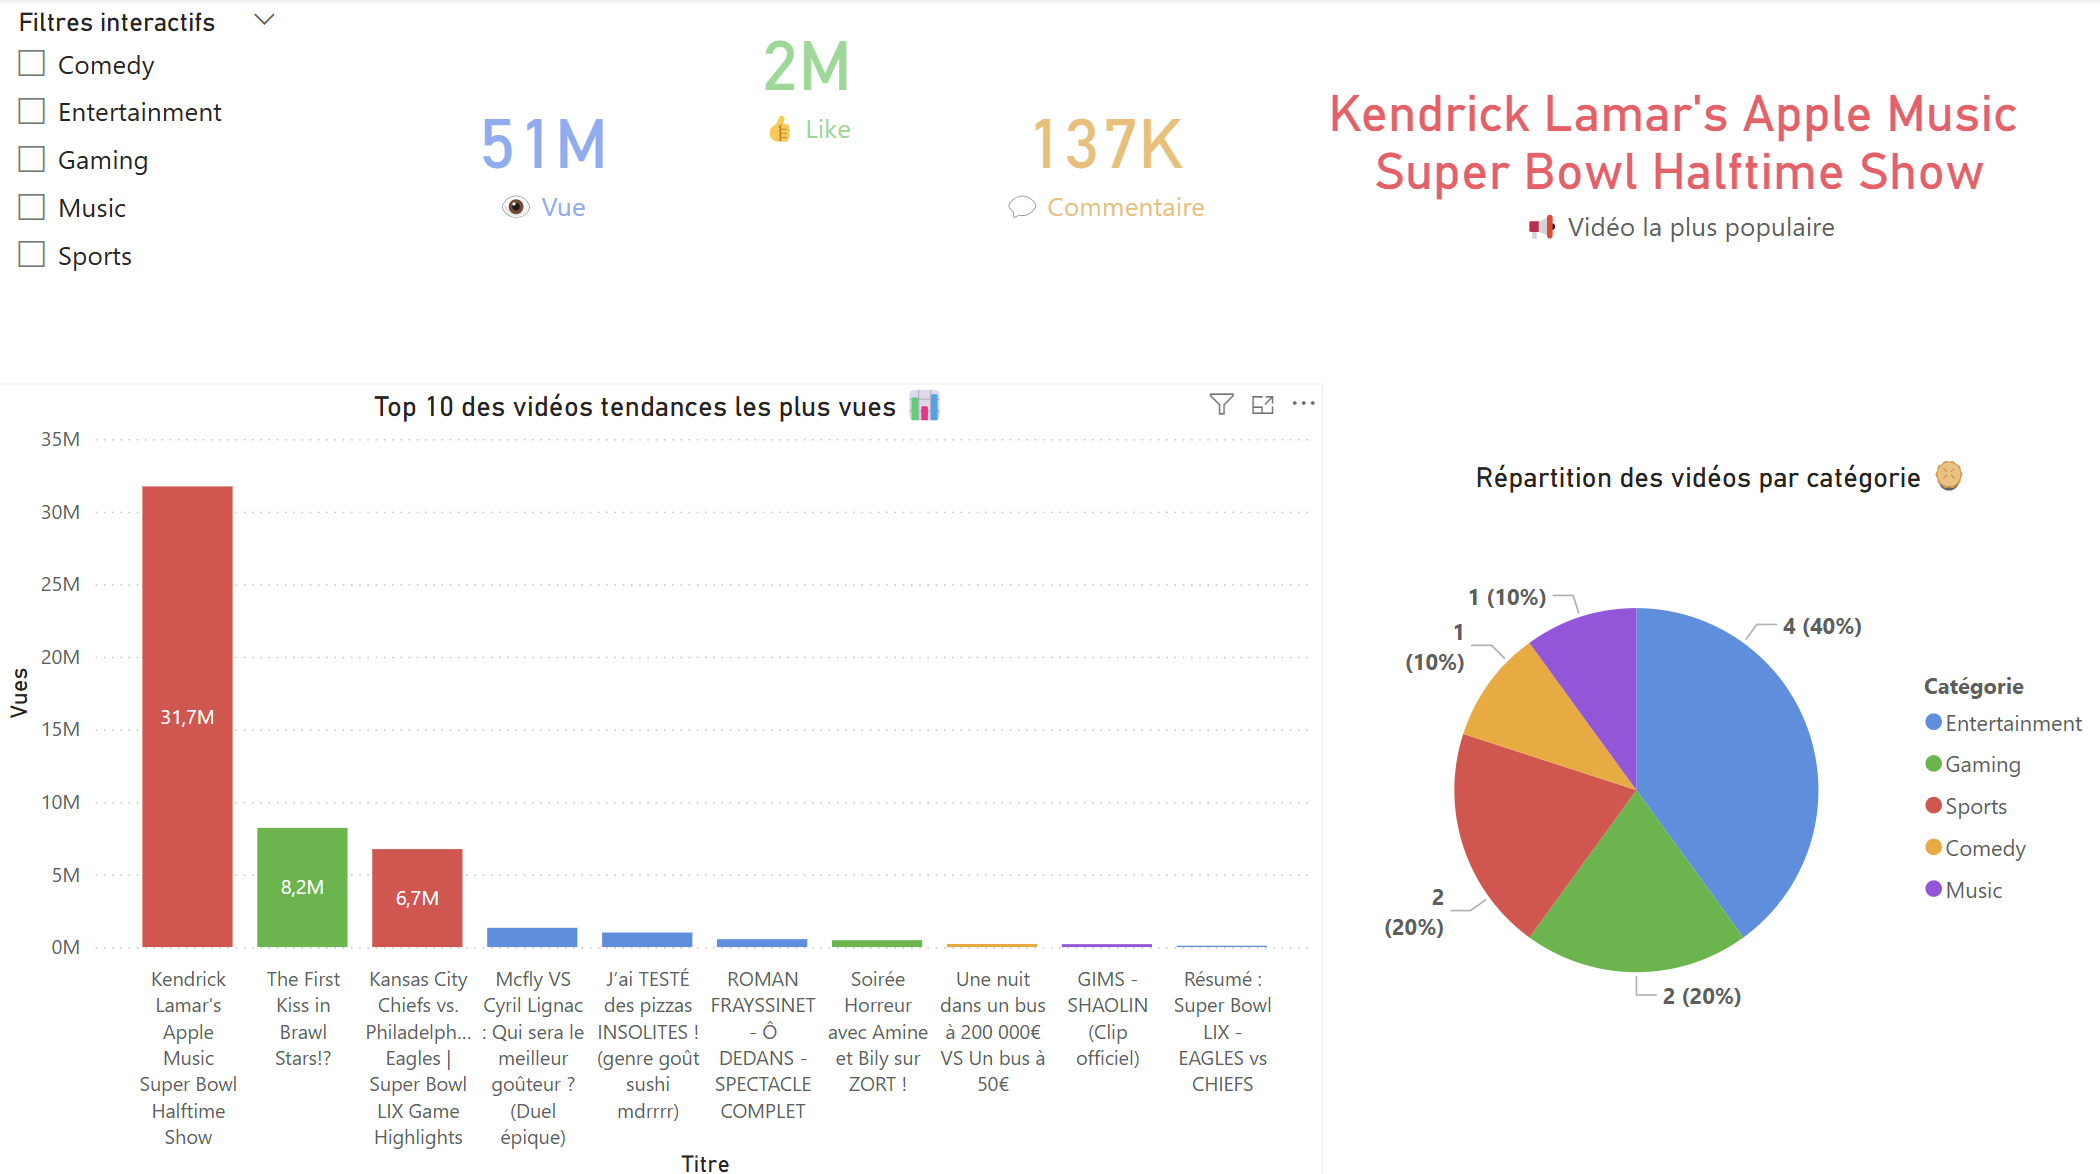

What the dashboard file says about the page in this screenshot:
{"tool":"powerbi","page":{"name":"Vue d’ensemble des tendances YouTube","canvas":[1280,720],"ordinal":0},"visuals":[{"type":"columnChart","title":"Top 10 des vidéos tendances les plus vues 📊","fields":{"Category":["youtube_trending_data.titre"],"Y":["youtube_trending_data.views"],"Series":["youtube_trending_data.categorie"]},"box":[0,234.3,804.6,485.8],"z":0},{"type":"pieChart","title":"Répartition des vidéos par catégorie 🥧","fields":{"Category":["youtube_trending_data.categorie"],"Y":["youtube_trending_data.titre"]},"box":[814.6,276.9,465.8,388.2],"z":1},{"type":"card","fields":{"Values":["youtube_trending_data.views"]},"box":[258.4,47.5,143.7,93.9],"z":2},{"type":"card","fields":{"Values":["youtube_trending_data.likes"]},"box":[426.4,0,129.7,93.5],"z":3},{"type":"card","fields":{"Values":["youtube_trending_data.comments"]},"box":[591,47.5,162.2,93.9],"z":4},{"type":"card","fields":{"Values":["youtube_trending_data.Video_Populaire"]},"box":[762.4,17.4,518,155.3],"z":5},{"type":"slicer","fields":{"Values":["youtube_trending_data.categorie"]},"box":[0,0,181.9,187.7],"z":6}]}

Visuals, with their boxes in screenshot pixels (x1, y1, x2, y2), scaled from the page's 1280x720 canvas onto the 2100x1174 screenshot:
"Top 10 des vidéos tendances les plus vues 📊" columnChart: [x1=0, y1=382, x2=1320, y2=1173]
"Répartition des vidéos par catégorie 🥧" pieChart: [x1=1336, y1=452, x2=2099, y2=1084]
card - youtube_trending_data.views: [x1=424, y1=77, x2=660, y2=231]
card - youtube_trending_data.likes: [x1=700, y1=0, x2=912, y2=152]
card - youtube_trending_data.comments: [x1=970, y1=77, x2=1236, y2=231]
card - youtube_trending_data.Video_Populaire: [x1=1251, y1=28, x2=2099, y2=282]
slicer - youtube_trending_data.categorie: [x1=0, y1=0, x2=298, y2=306]
